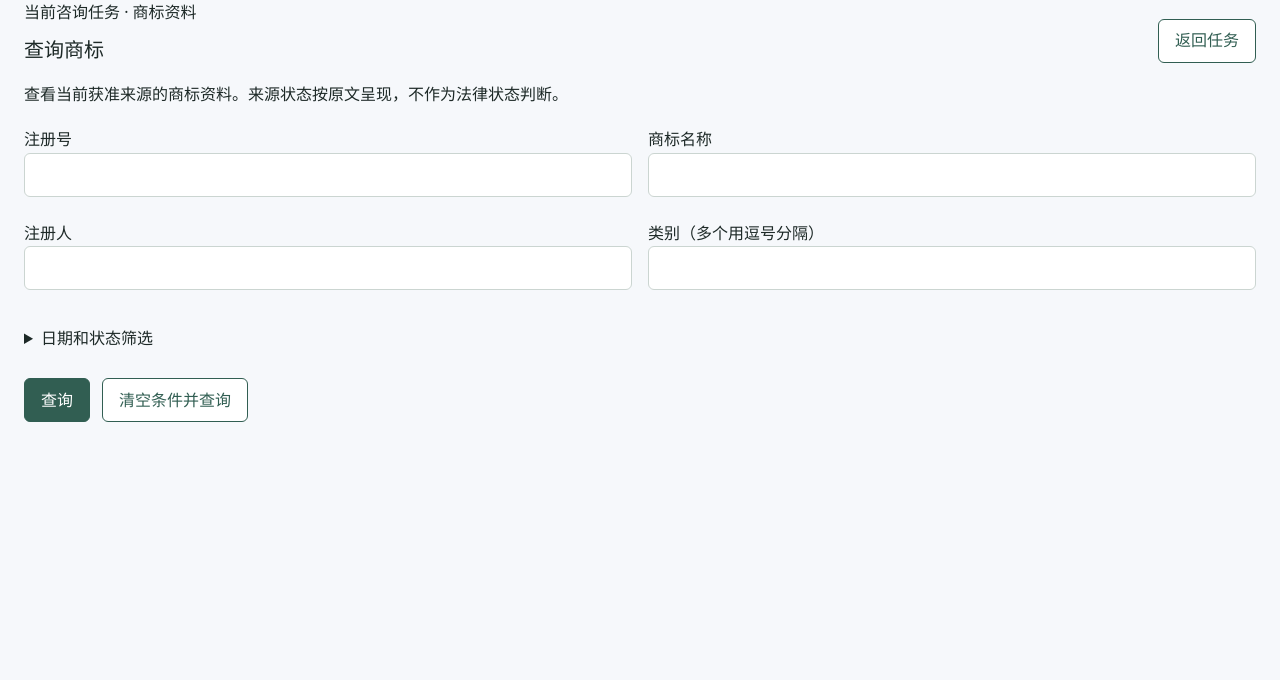
Test case: trademark product workspace using transport with isolated HTTP responses › queries with the exact Task, pages reliably and retains filters on detail return
Type "00012A" into the field labelled "注册号" at (328, 175), box 24,153 -> 632,197
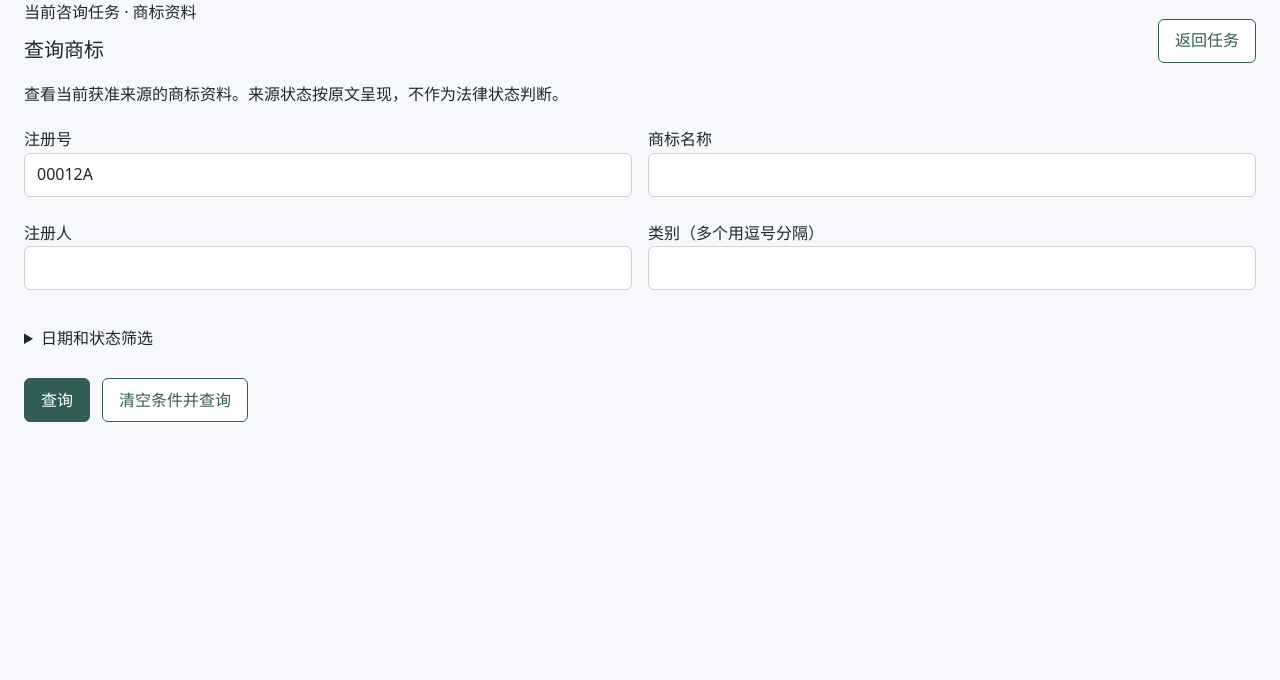
Click the button "查询" at (57, 400), box 24,378 -> 90,422
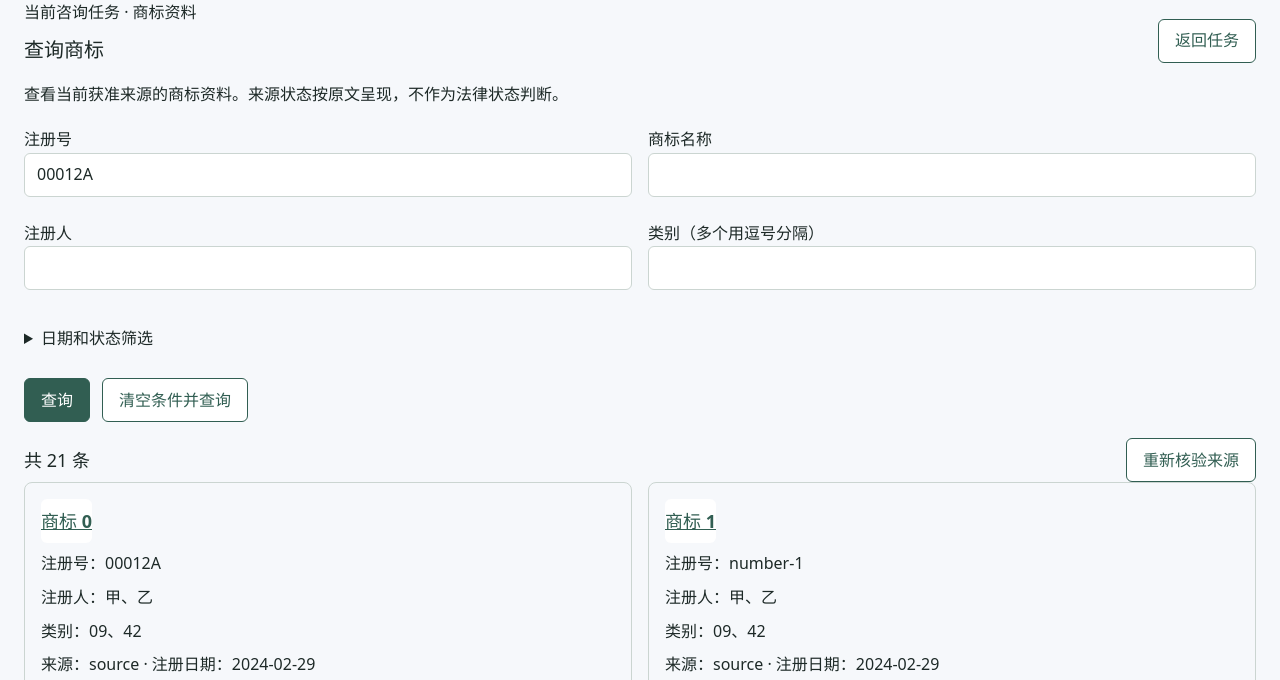
Check: the heading "共 21 条" is shown, box 24,446 -> 90,475
Click the button "商标 0" at (66, 521), box 41,499 -> 92,543
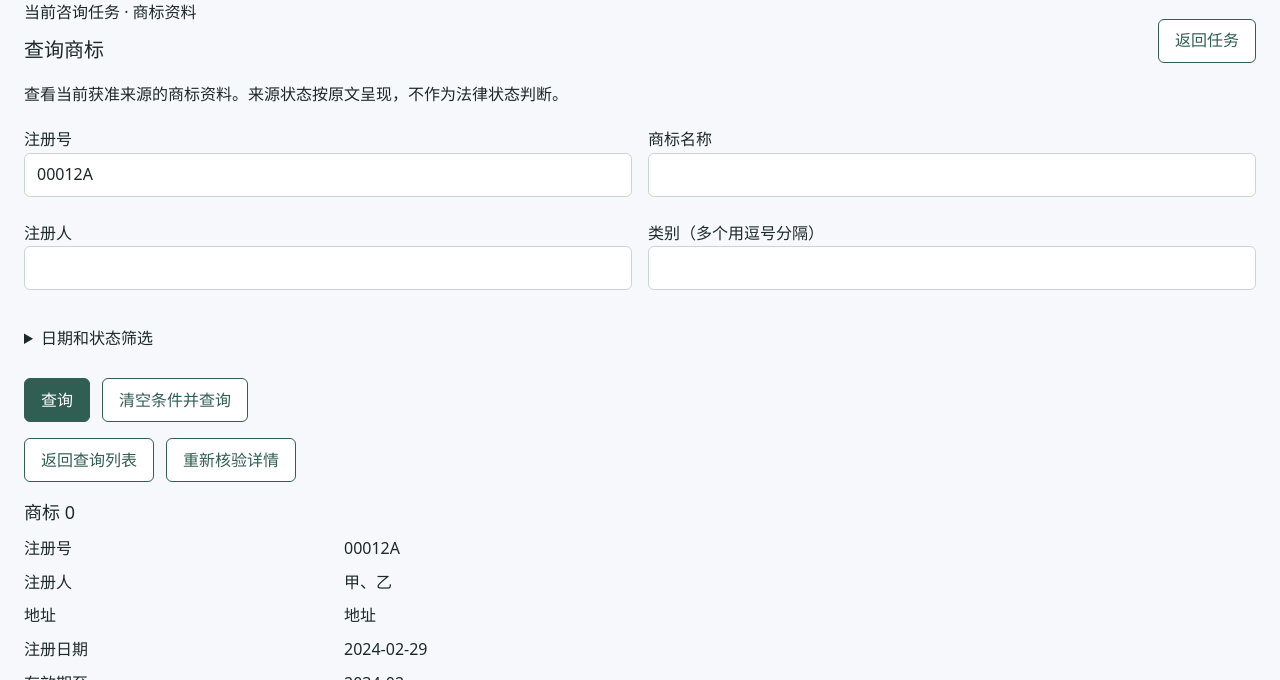
Check: the text "00012A" is shown, box 344,537 -> 400,559
Click the button "返回查询列表" at (89, 460), box 24,438 -> 154,482
(page scrolled)
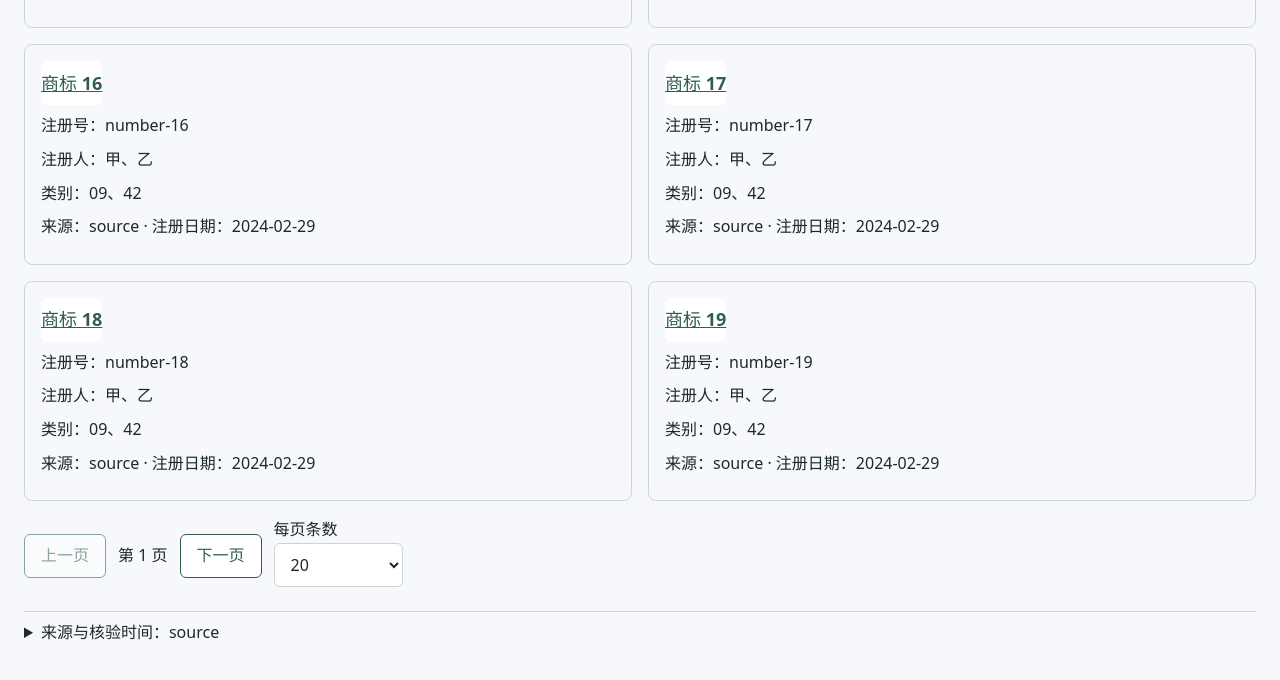
Click the button "下一页" at (220, 556), box 180,534 -> 262,578
(page scrolled)
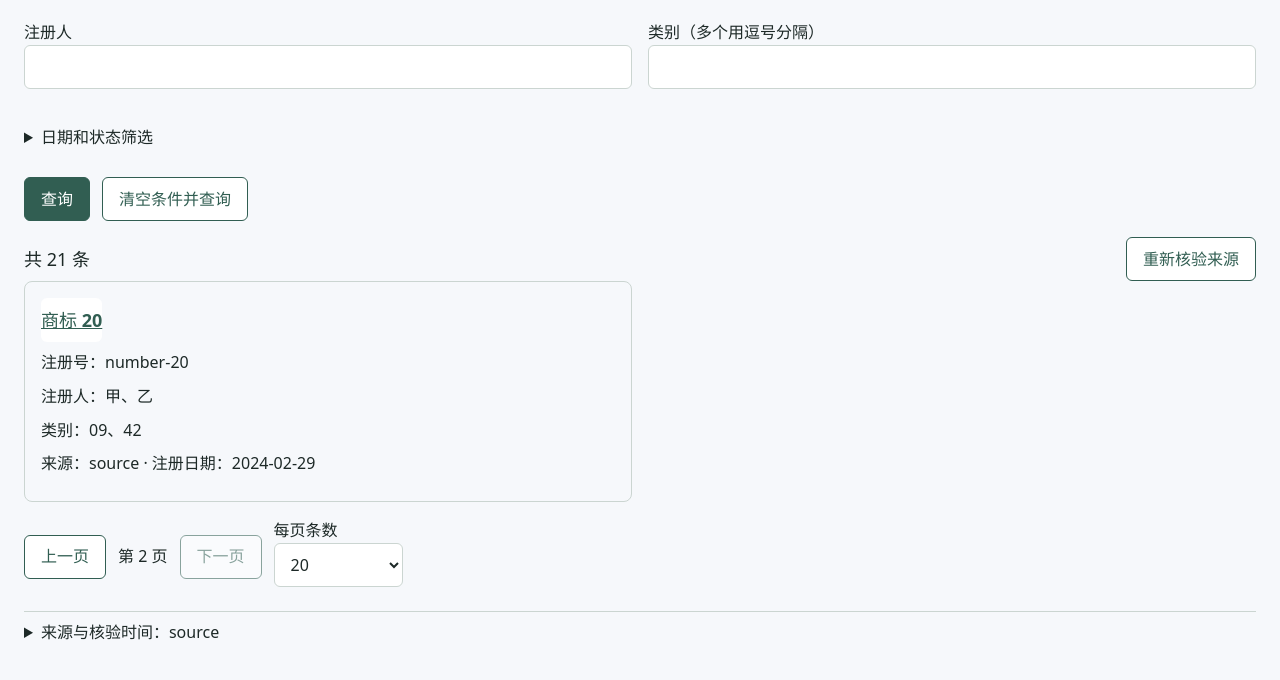
Check: the text "第 2 页" is shown, box 118,544 -> 168,569
Check: the button "商标 20" is shown, box 41,298 -> 102,342
Check: the button "下一页" is disabled, box 180,534 -> 262,578
